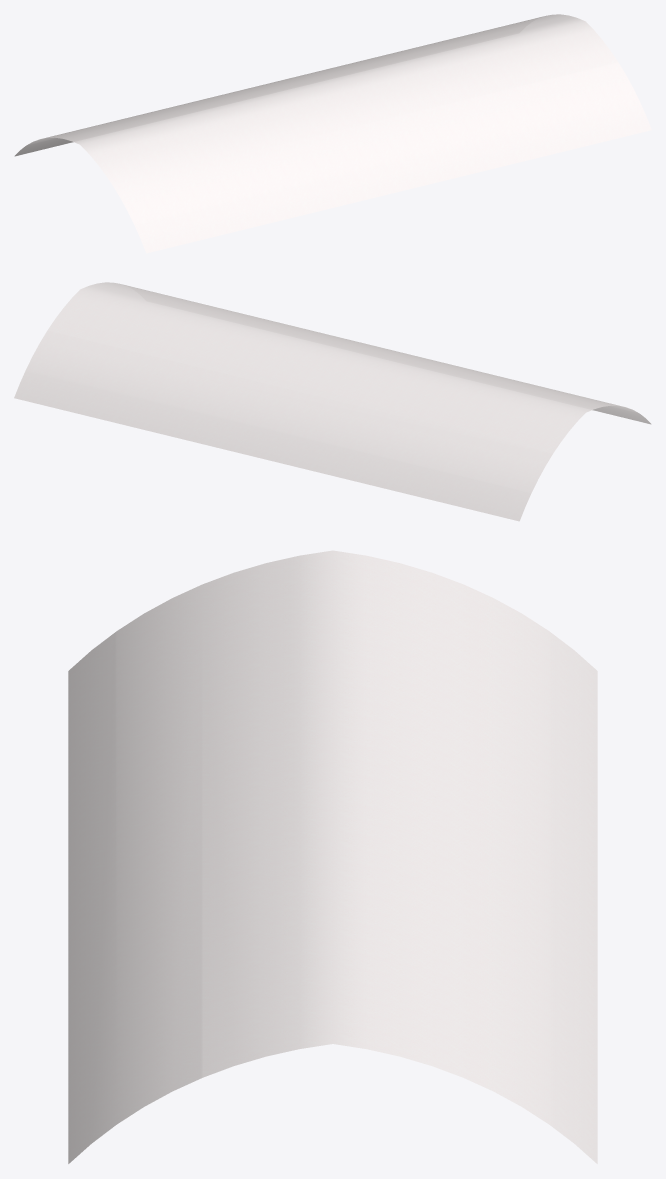
Rendered from top.dae.
The picture shows the model from 3 angles, top to bottom: view 1: azimuth 30°, elevation 25°; view 2: azimuth 150°, elevation 25°; view 3: azimuth 270°, elevation 25°; orthographic projection. The views are drawn at different scales.
Parts seen in each view (by area): view 1: group_0; view 2: group_0; view 3: group_0.
Boxes of the visible parts, bbox=[...] form: group_0: bbox=[14, 14, 651, 253]; group_0: bbox=[14, 282, 651, 521]; group_0: bbox=[68, 550, 597, 1163].
Size of the model in its own units: 790 by 358 by 90.02.
Materials: 1 (1 with a texture image).
